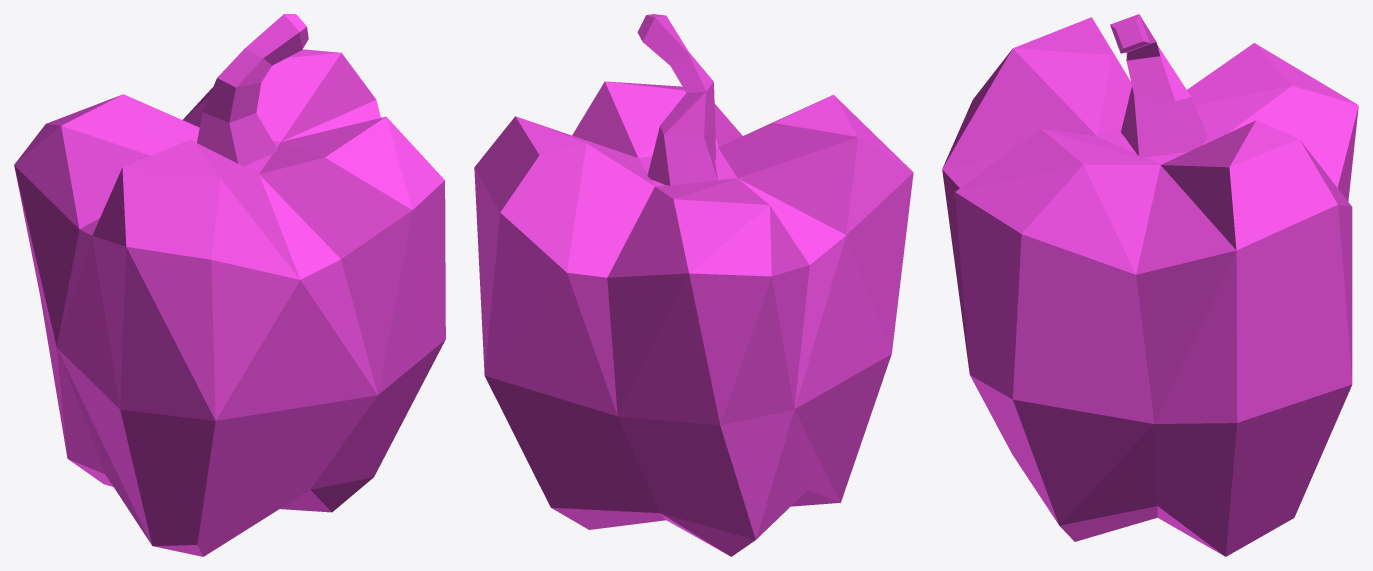
The model's file is SM_BellPepper_B.fbx.
The picture shows the model from 3 angles, left to right: view 1: azimuth 30°, elevation 25°; view 2: azimuth 150°, elevation 25°; view 3: azimuth 270°, elevation 25°; orthographic projection. The views are drawn at different scales.
Parts seen in each view (by area): view 1: SM_Bell_Pepper_B; view 2: SM_Bell_Pepper_B; view 3: SM_Bell_Pepper_B.
Boxes of the visible parts, x1=… form: SM_Bell_Pepper_B: x1=14, y1=14, x2=445, y2=556; SM_Bell_Pepper_B: x1=474, y1=14, x2=913, y2=556; SM_Bell_Pepper_B: x1=942, y1=14, x2=1358, y2=556.
Bounding box in the file's own units: 0.1359 × 0.1808 × 0.131.
